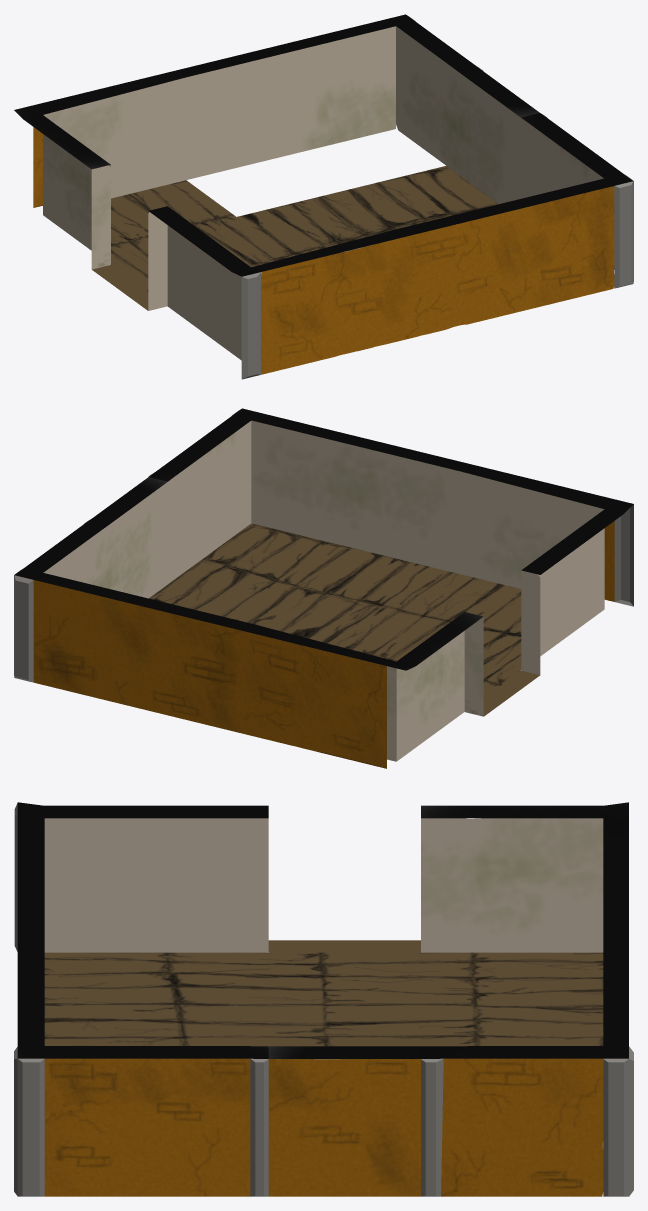
The model's file is Pantry.fbx.
3 views of the same model, one above another, from view 1: azimuth 30°, elevation 25°; view 2: azimuth 150°, elevation 25°; view 3: azimuth 270°, elevation 25° (orthographic). The views are drawn at different scales.
Parts seen in each view (by area): view 1: Pantry; view 2: Pantry; view 3: Pantry.
Part boxes in pixels (left/top/right/bottom): Pantry: left=14, top=14, right=633, bottom=379; Pantry: left=14, top=408, right=633, bottom=768; Pantry: left=14, top=802, right=633, bottom=1196.
Size of the model in its own units: 1195 by 298 by 1214.
